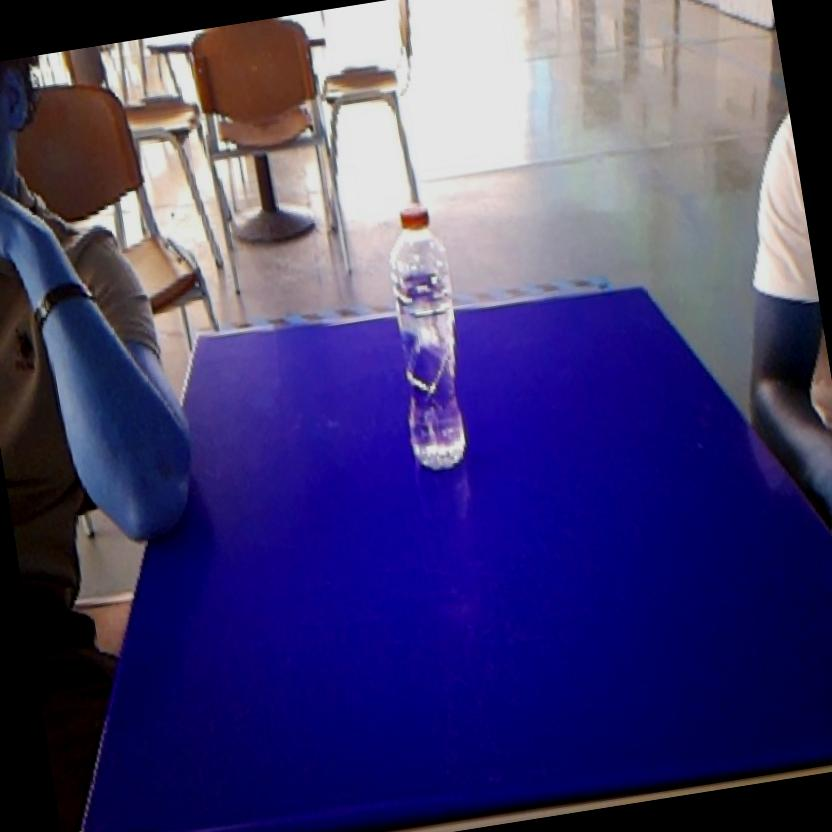no_label: (369, 193, 488, 478)
